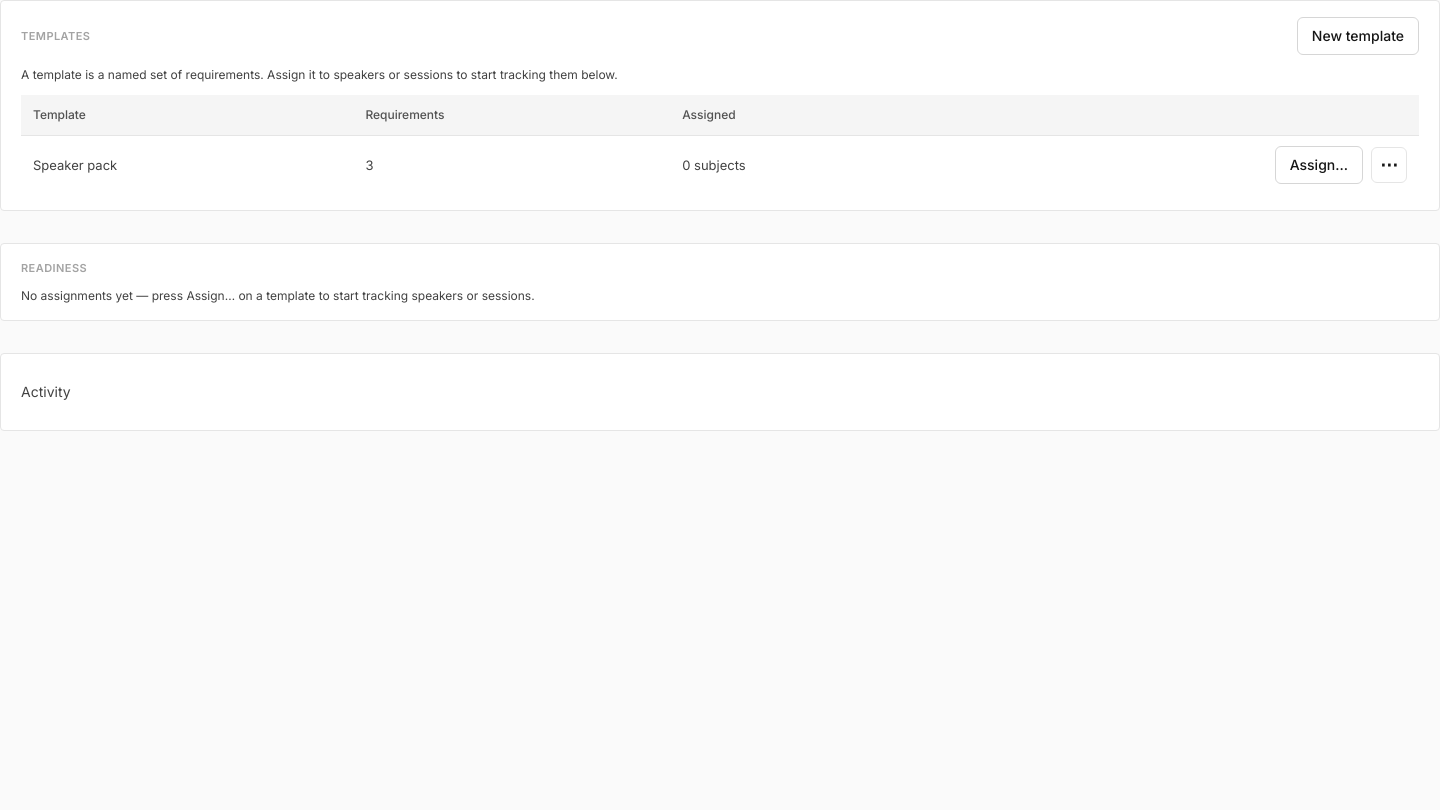
Test case: READY-SHARE-1 — the requirement editor's auto-share checkbox › badges the requirements that share on approval, and only those
The width and height of the screenshot is (1440, 810).
Click the button "⋯".
click(1389, 164)  # box [1371,146,1407,182]
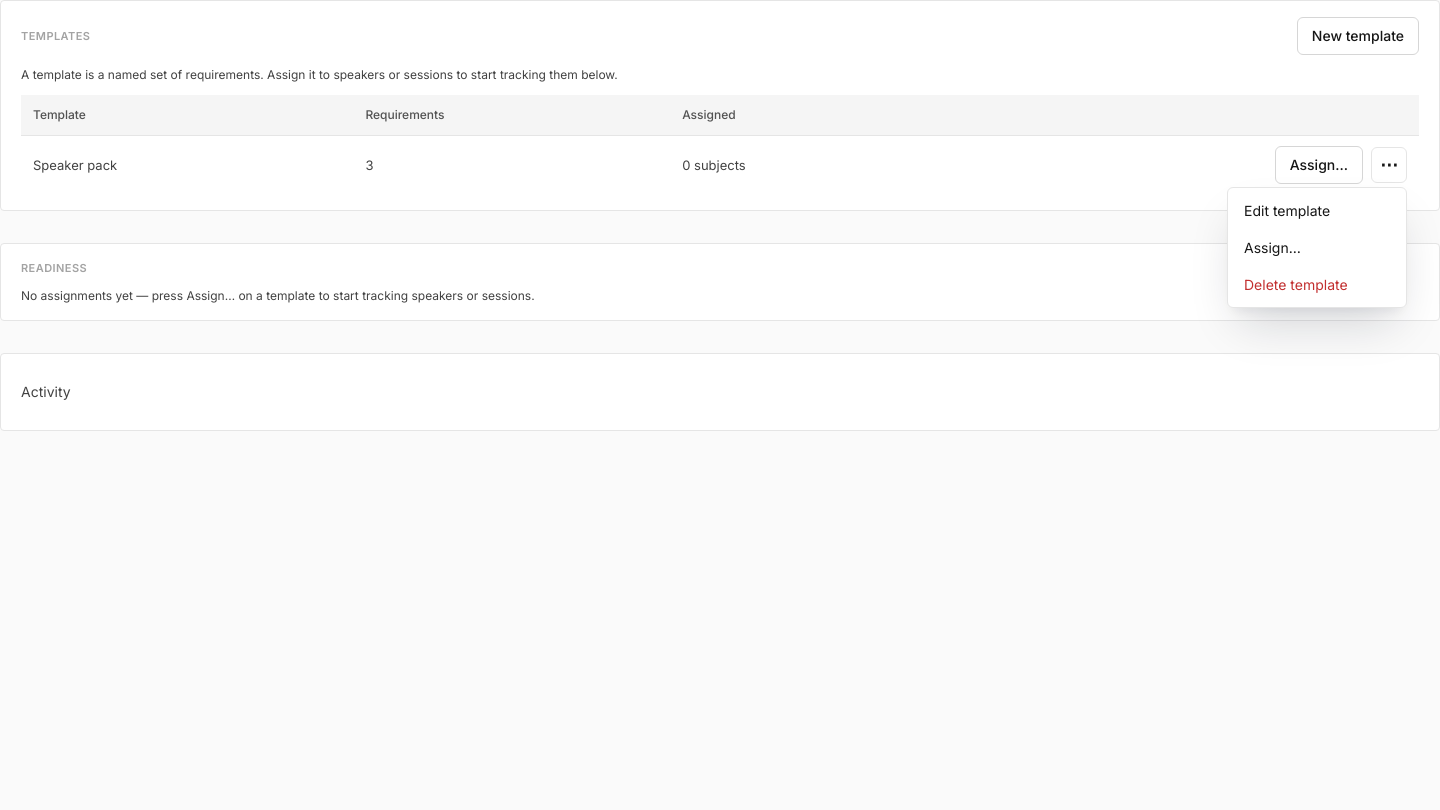
Click the menu item "Edit template".
click(1317, 210)  # box [1232,192,1402,228]
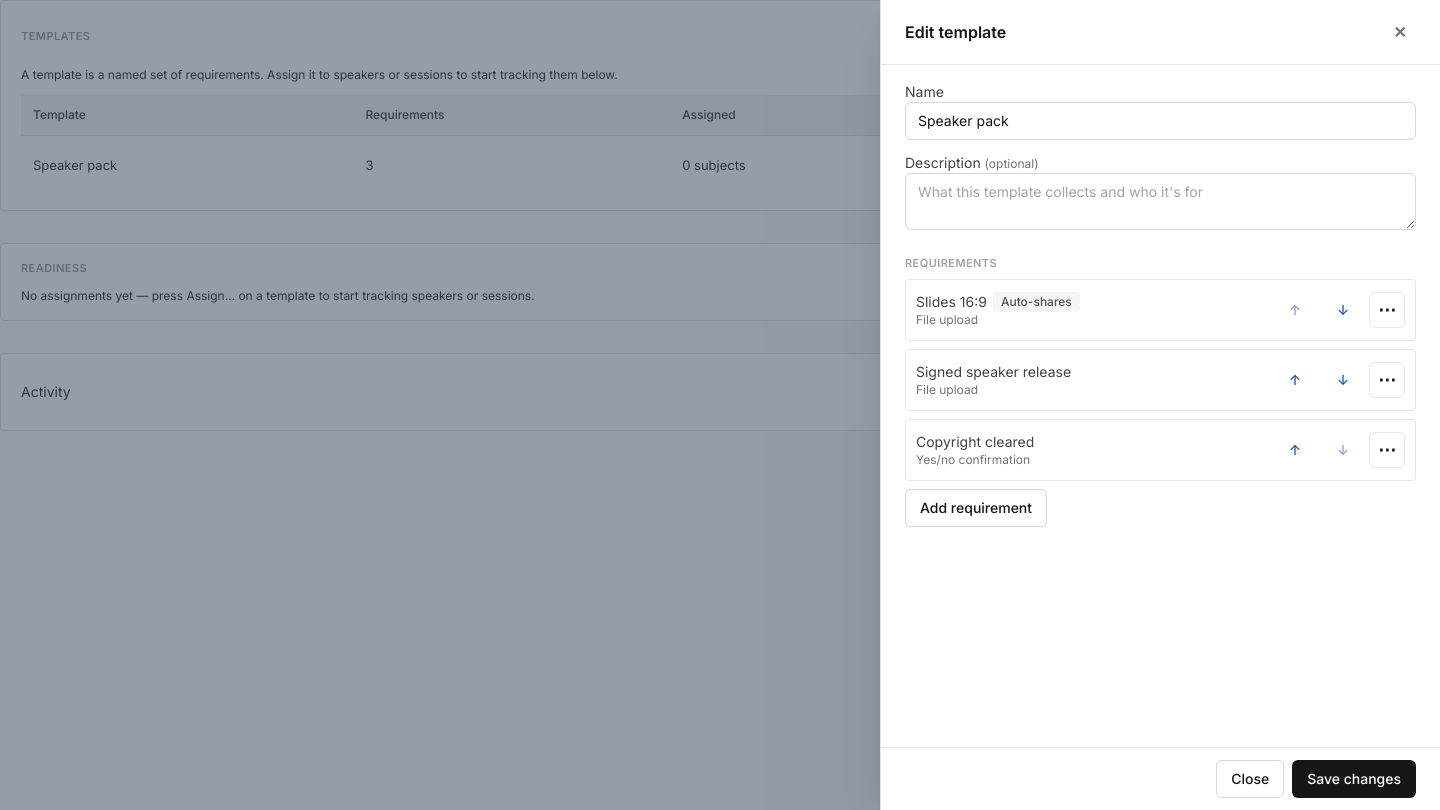
Expected: the text "Auto-shares" is not shown
Expected: the list item "Slides 16:9 Auto-shares File upload ↑ ↓ ⋯" is shown, [905,279,1416,341]
